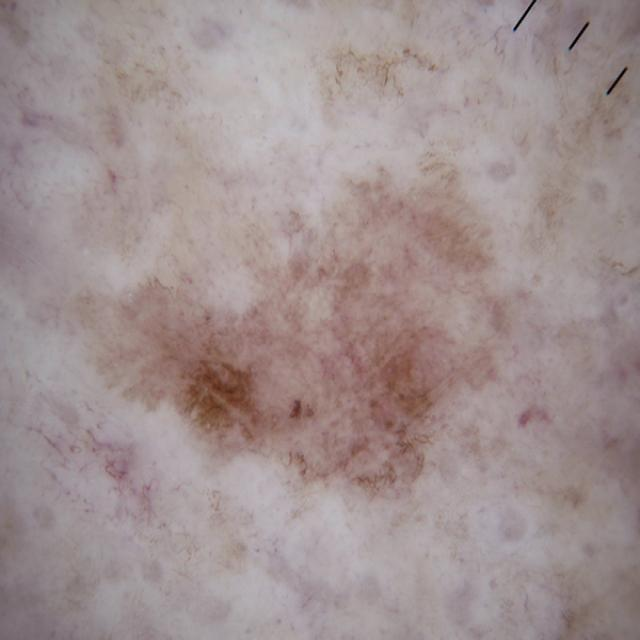Skin-Cancer Pigmented benign keratosis: (35, 27, 588, 640)
